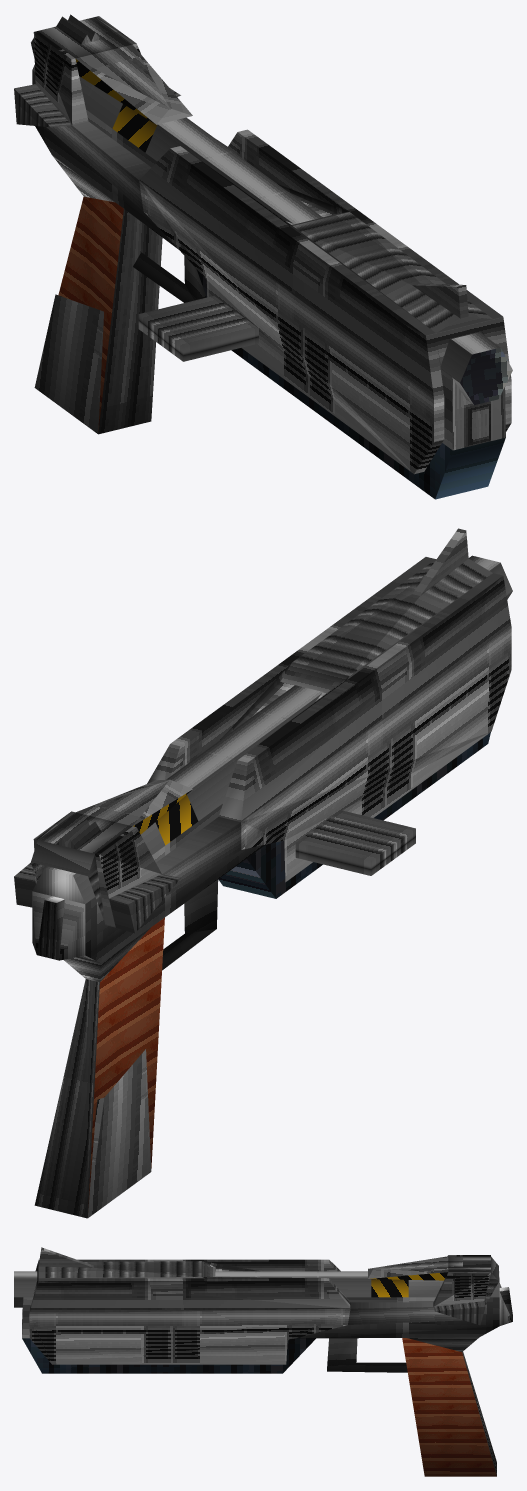
Rendered from 04-magsec-4-fp.glb.
3 renders of one model, top to bottom at view 1: azimuth 30°, elevation 25°; view 2: azimuth 150°, elevation 25°; view 3: azimuth 270°, elevation 25°, orthographic. The views are drawn at different scales.
Parts seen in each view (by area): view 1: gun; view 2: gun; view 3: gun.
Part boxes in pixels (x1,y1,x2,y2): gun: (14, 14, 512, 499); gun: (14, 528, 512, 1218); gun: (14, 1247, 512, 1476).
Bounding box in the file's own units: 107 × 219 × 448.
Materials: 10 (10 with a texture image).
